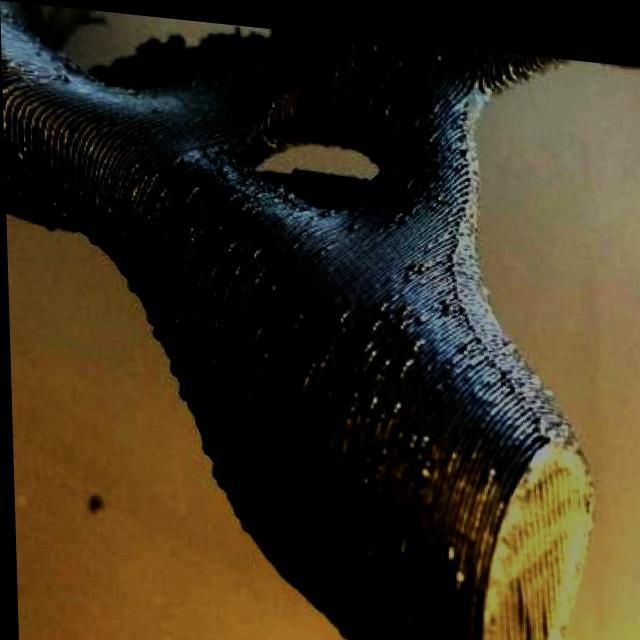zits: (407, 320, 428, 346), (414, 453, 438, 473), (438, 530, 458, 550), (378, 92, 395, 114), (416, 420, 433, 441), (376, 428, 391, 450), (338, 390, 356, 406), (356, 467, 374, 482), (372, 400, 391, 414), (450, 558, 464, 576), (480, 455, 498, 468), (363, 84, 376, 102), (372, 290, 386, 304)
